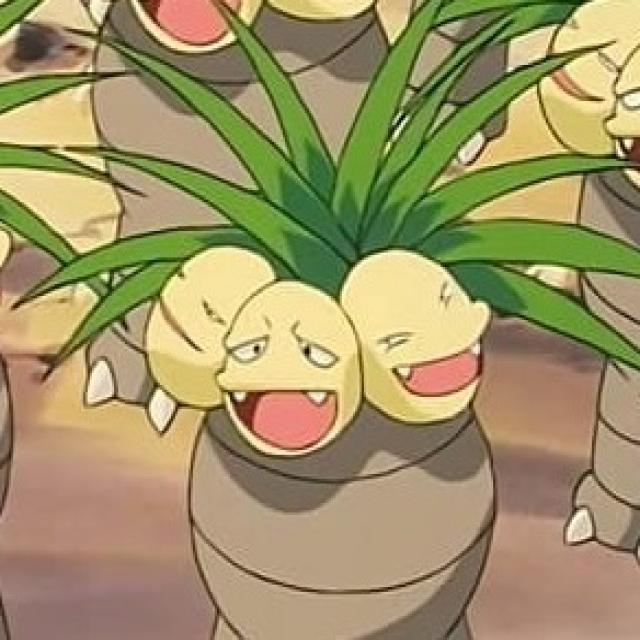Exeggutor: (138, 191, 505, 640)
